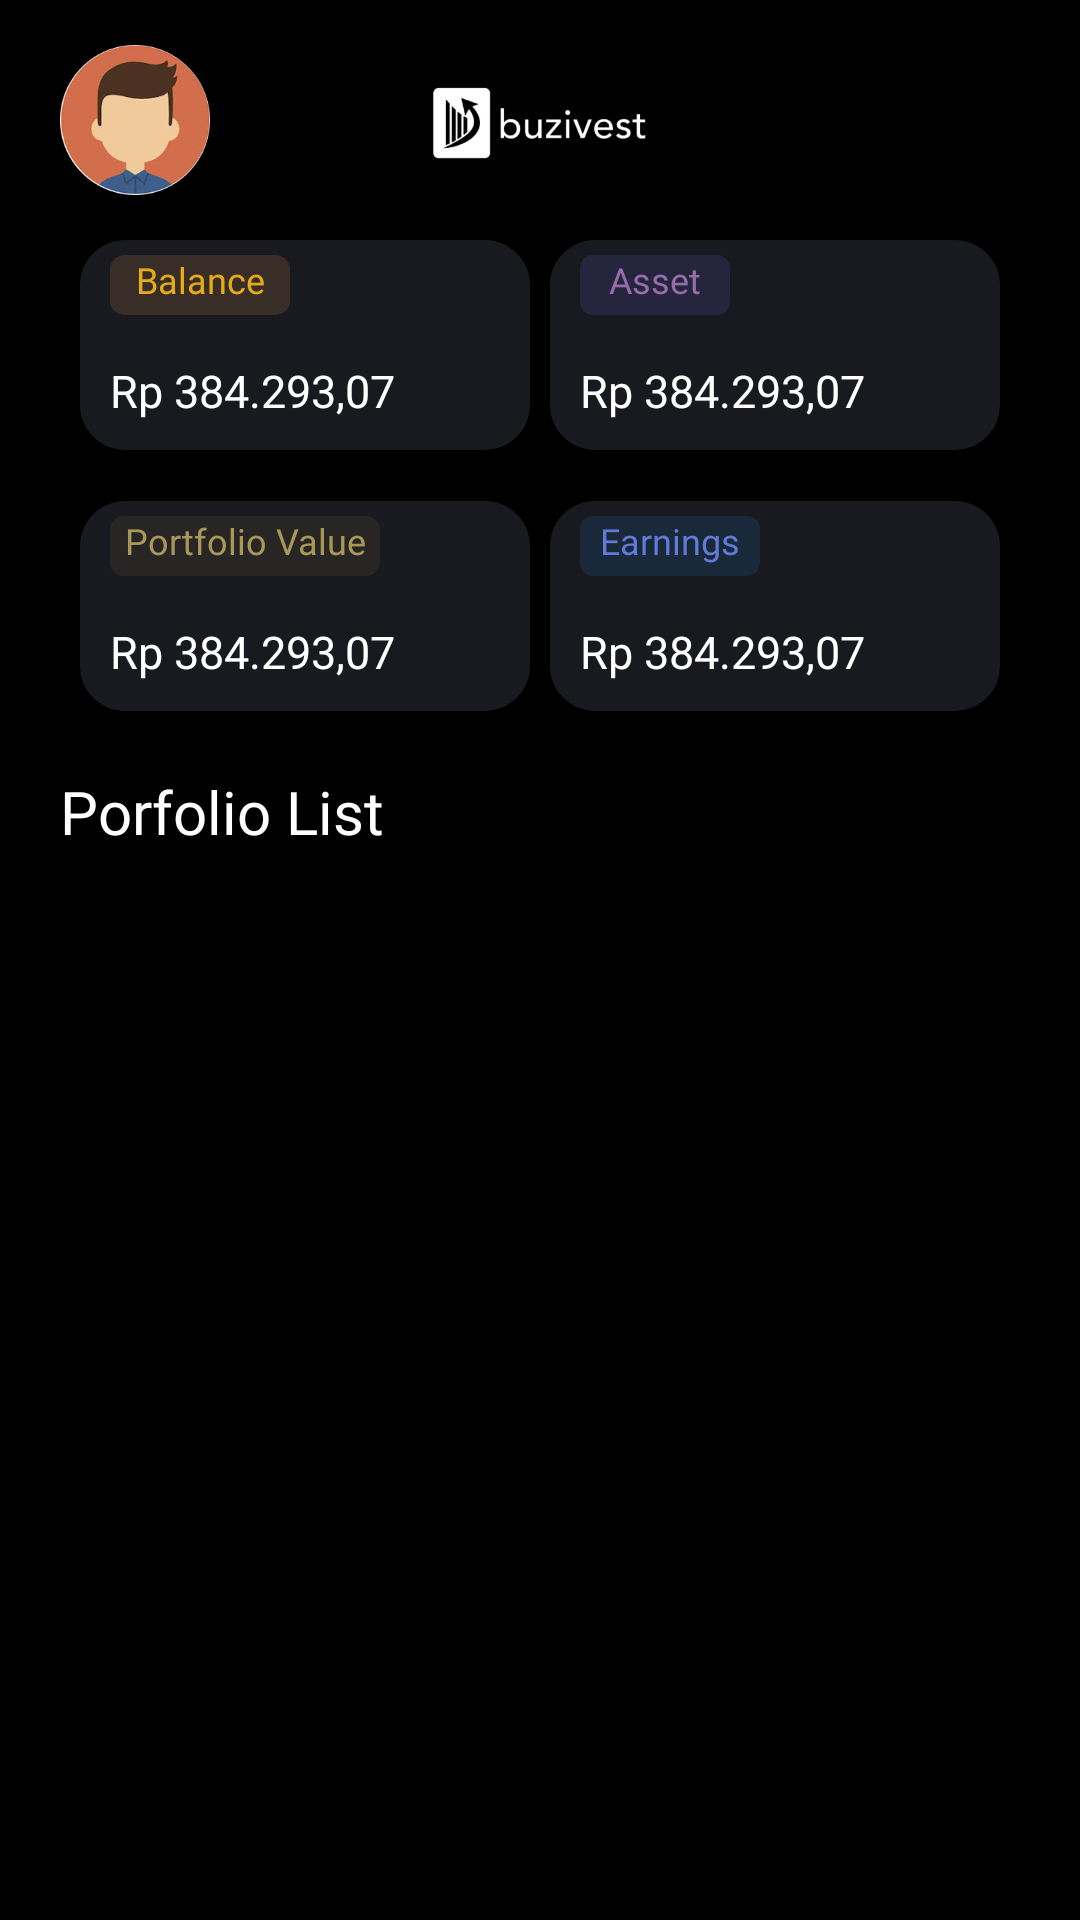

Named icons in this screenshot (1080*1920) and their bounding boxes, (x1, y1, x2, y2):
home profile: (60, 45, 210, 195)
